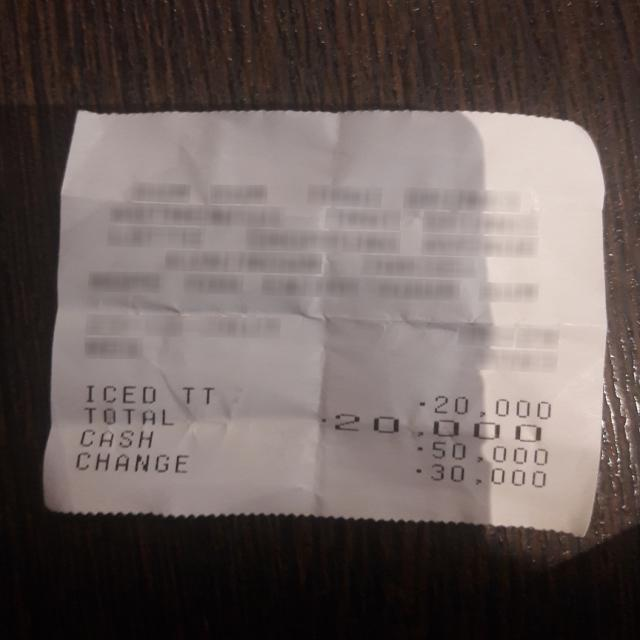kertas: (41, 94, 617, 536)
